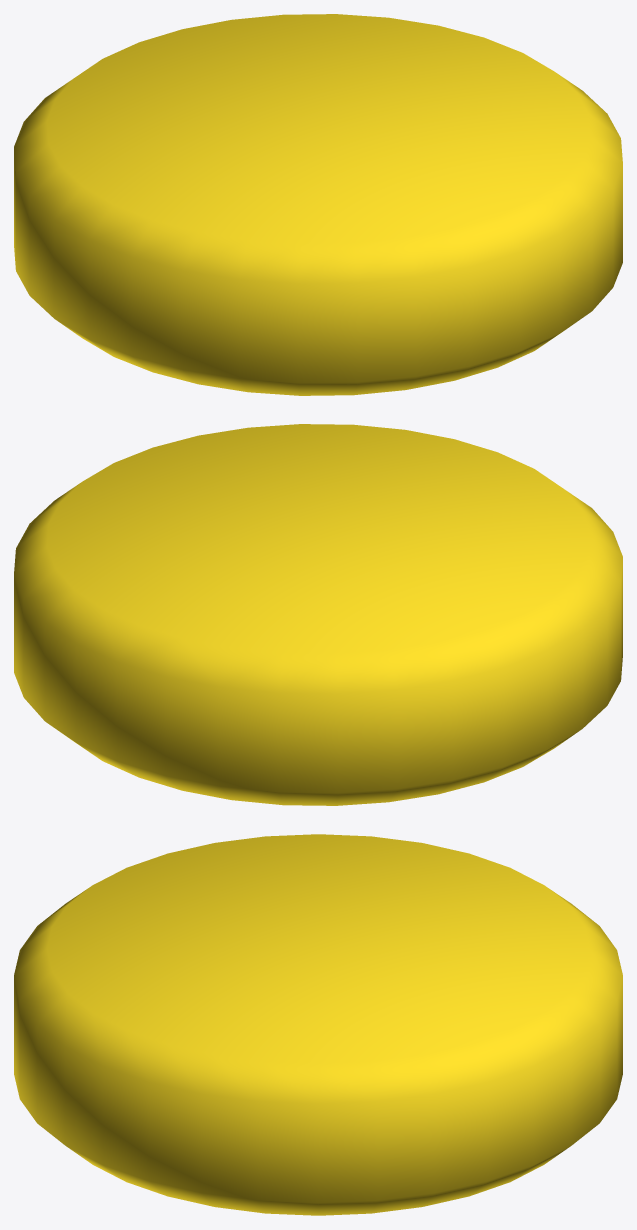
Rendered from wholeCheese.dae.
The picture shows the model from 3 angles, top to bottom: view 1: azimuth 30°, elevation 25°; view 2: azimuth 150°, elevation 25°; view 3: azimuth 270°, elevation 25°; orthographic projection.
Visible parts, largest first — view 1: Cylinder; view 2: Cylinder; view 3: Cylinder.
Boxes of the visible parts, box(x1,y1,x2,y2) form: Cylinder: box(14, 14, 622, 395); Cylinder: box(14, 424, 622, 805); Cylinder: box(14, 834, 622, 1215).
Bounding box in the file's own units: 2 × 2 × 0.5514.
